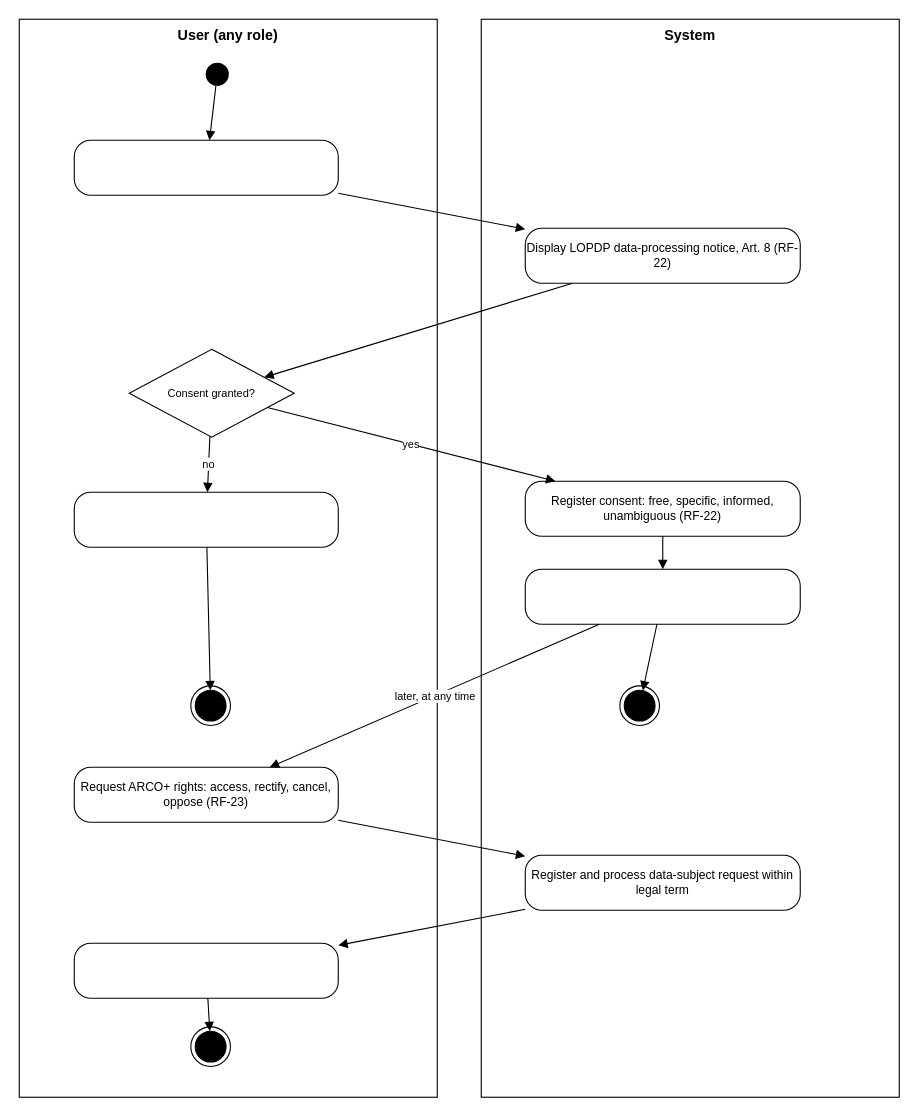
Some shapes in this 919 by 1117 pixel diagram are drawn without their labels. Here are the shapes that lost their labels. From the top down, the centre of each, then its label:
At point (205, 167): "Log in for the first time (RF-20)".
At point (205, 519): "Deny access, end session".
At point (662, 596): "Grant role-based access (RF-20)".
At point (205, 970): "Notify resolution to worker".
